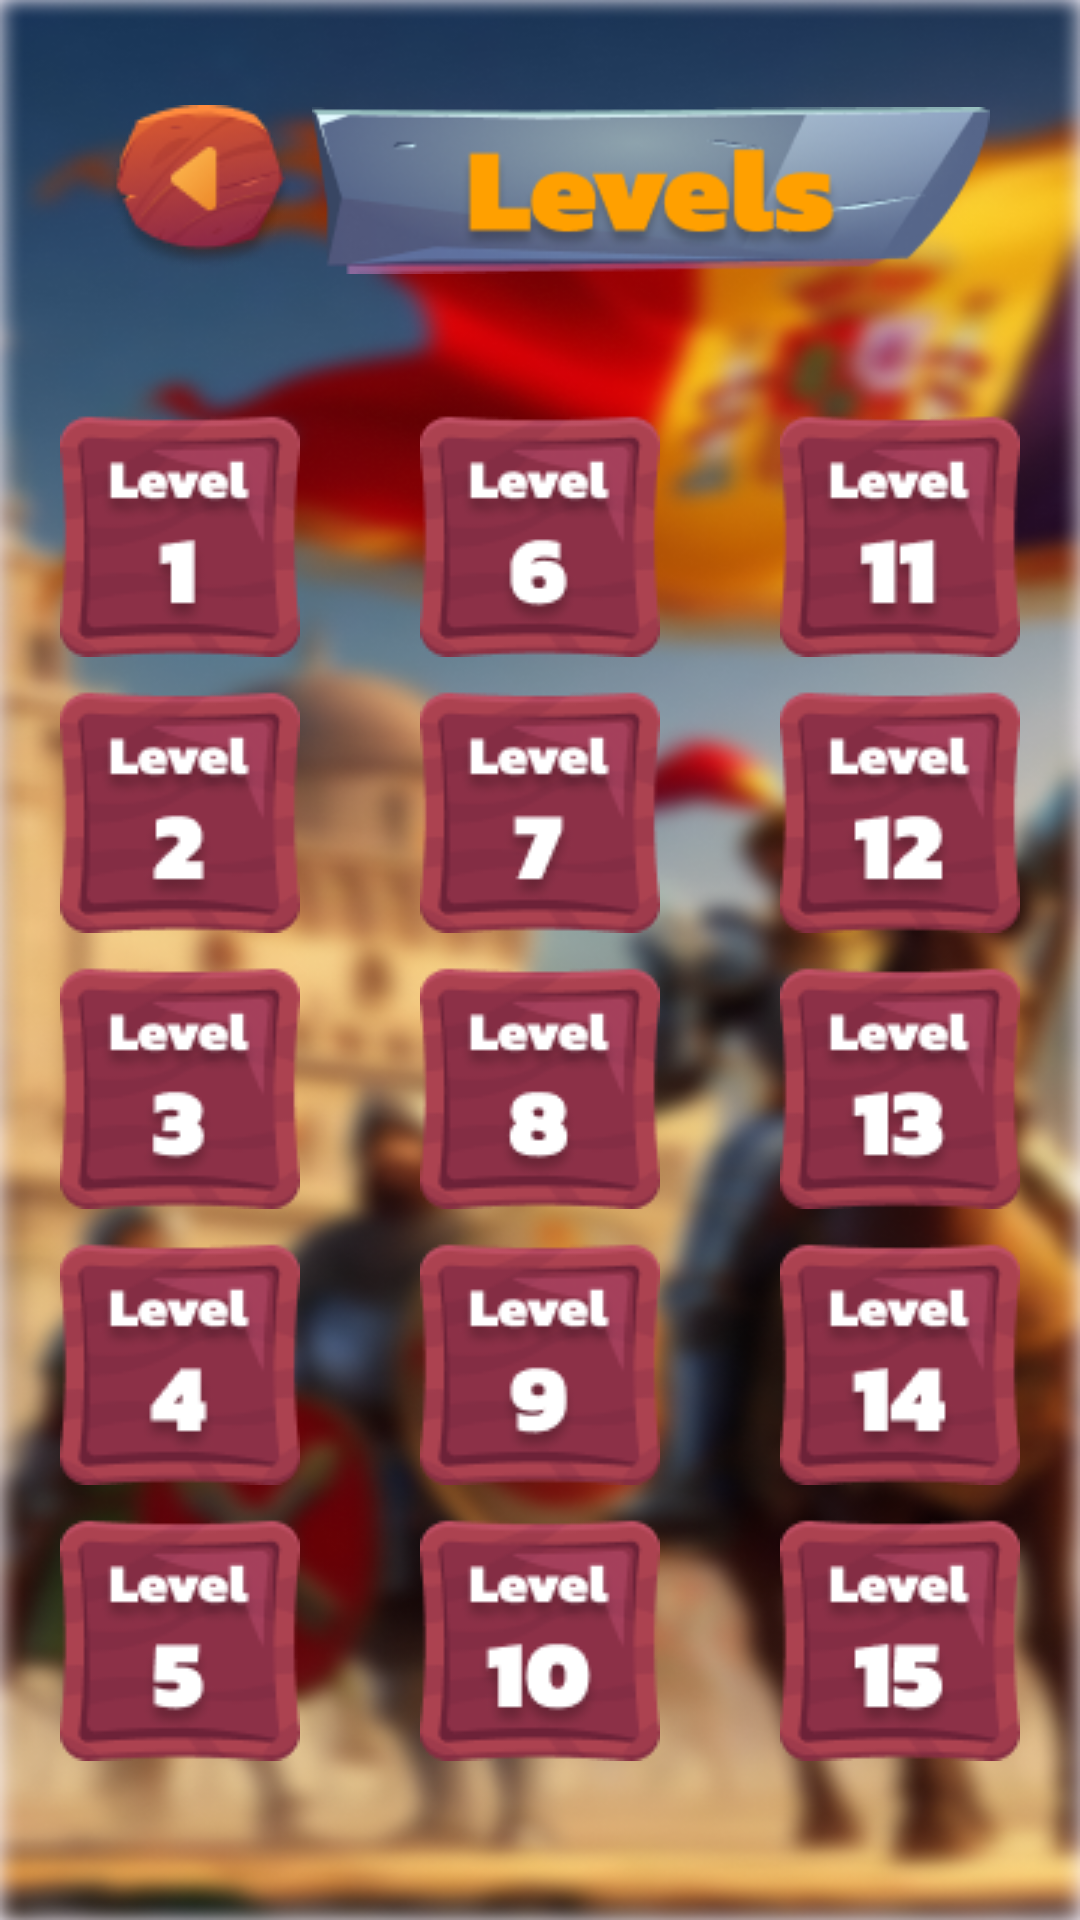

Where icons sit on this 1080 × 1920 app screen, as BBox(x1, y1, x2, y2):
backbtn: BBox(105, 105, 297, 257)
